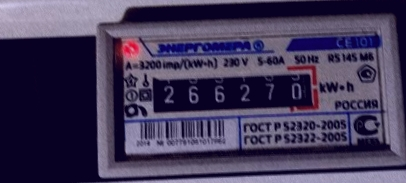0: (288, 78, 303, 99)
2: (161, 82, 175, 103), (238, 81, 252, 101)
6: (186, 82, 199, 103), (212, 82, 226, 101)
7: (264, 80, 275, 99)
screen: (139, 59, 325, 121)
